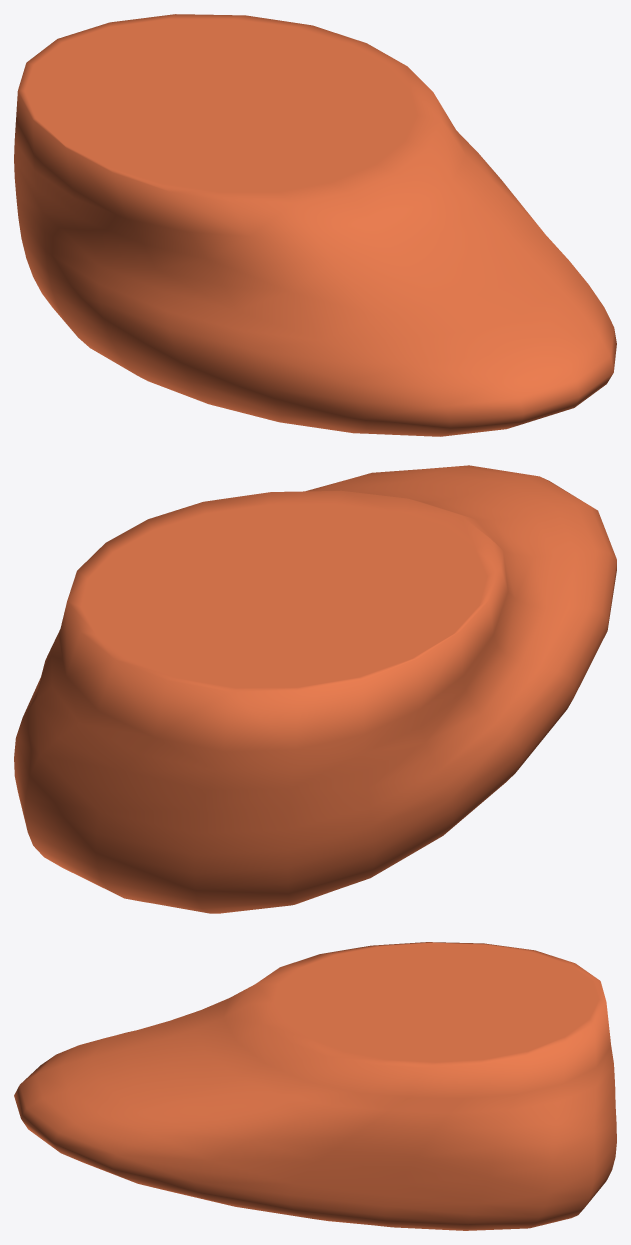
The model's file is StoneShoe3.fbx.
3 views of the same model, one above another, from view 1: azimuth 30°, elevation 25°; view 2: azimuth 150°, elevation 25°; view 3: azimuth 270°, elevation 25° (orthographic). The views are drawn at different scales.
Parts seen in each view (by area): view 1: Shoe2.001; view 2: Shoe2.001; view 3: Shoe2.001.
Part boxes in pixels (box(x1,y1,x2,y2)): Shoe2.001: box(14, 14, 616, 436); Shoe2.001: box(14, 465, 616, 913); Shoe2.001: box(14, 942, 616, 1230).
Size of the model in its own units: 6.86 by 2.29 by 3.72.
